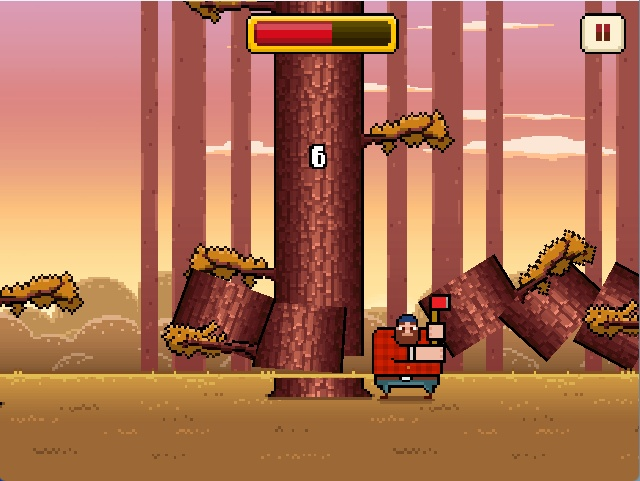timberman: (367, 290, 463, 403), (359, 99, 469, 163)
